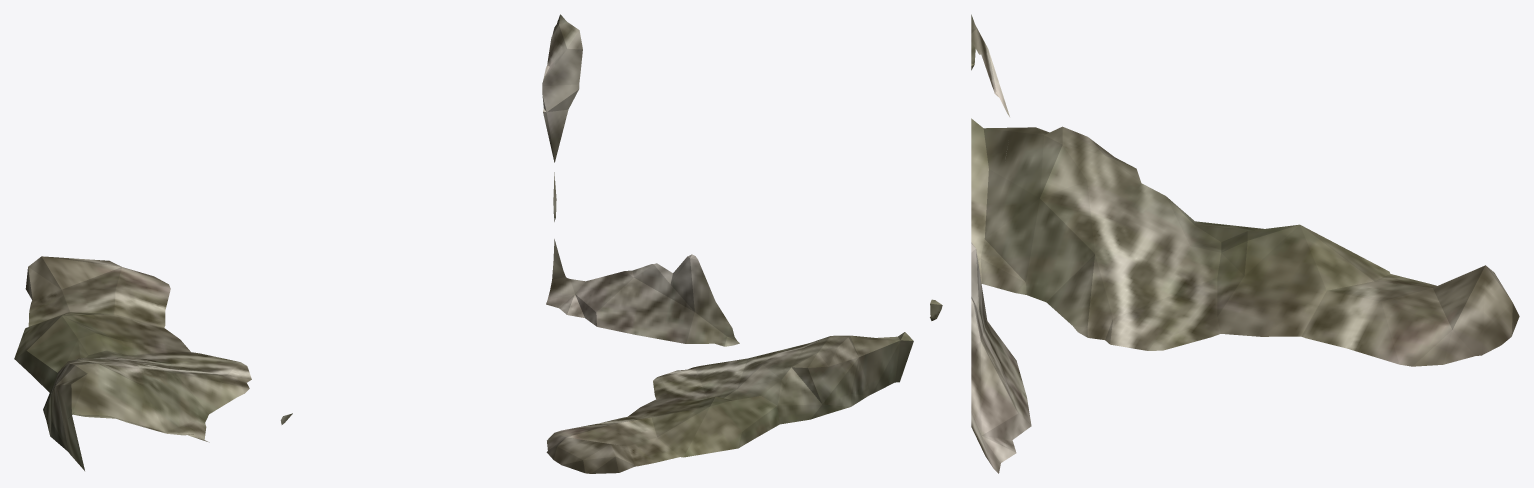
The picture shows the model from 3 angles, left to right: view 1: azimuth 30°, elevation 25°; view 2: azimuth 150°, elevation 25°; view 3: azimuth 270°, elevation 25°; orthographic projection. The views are drawn at different scales.
Bounding box in the file's own units: 2.09 × 1.47 × 1.6.
Materials: 1 (1 with a texture image).
